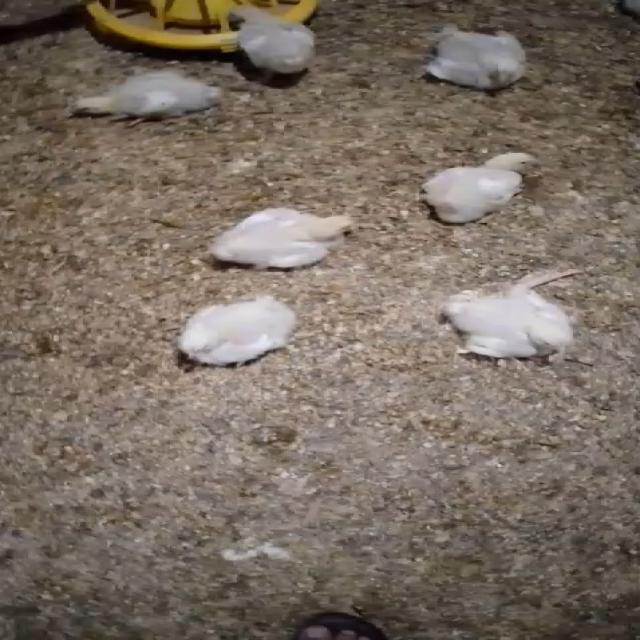abnormal chicken: (423, 252, 603, 370), (425, 134, 544, 222)
feeding: (195, 0, 343, 84)
sleeping chickens: (205, 192, 366, 279), (159, 288, 304, 369), (78, 69, 238, 129), (428, 16, 538, 96)
